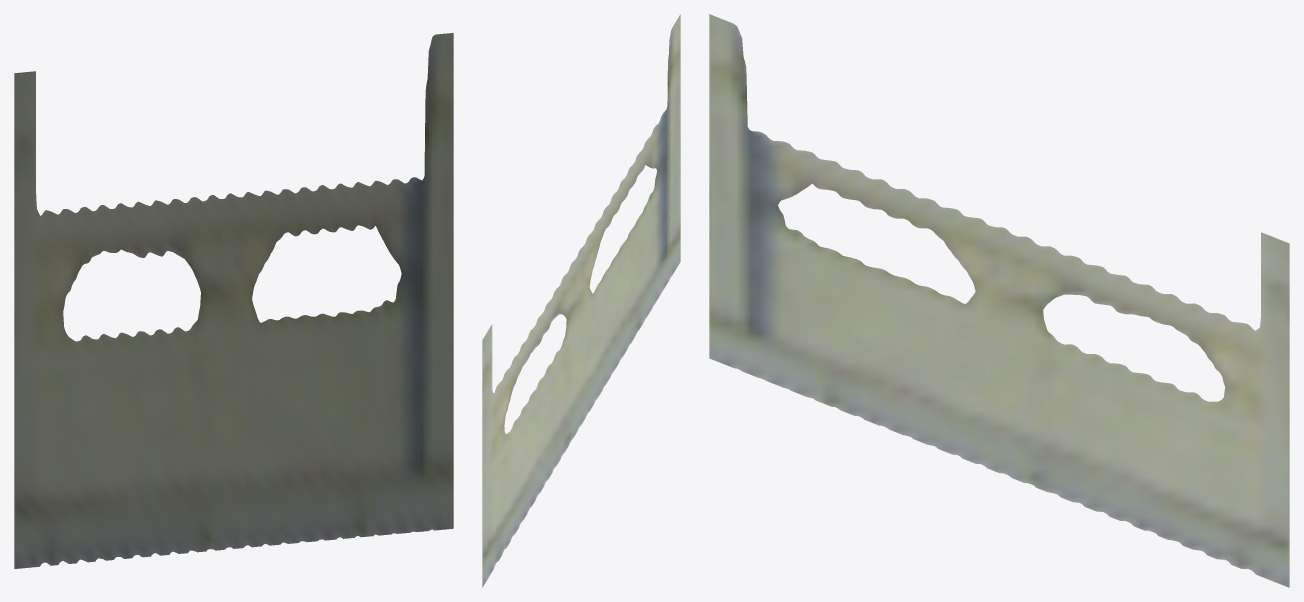
Rendered from 人民英雄纪念碑101.dae.
3 renders of one model, left to right at view 1: azimuth 30°, elevation 25°; view 2: azimuth 150°, elevation 25°; view 3: azimuth 270°, elevation 25°, orthographic. The views are drawn at different scales.
Visible parts, largest first — view 1: SketchUp; view 2: SketchUp; view 3: SketchUp.
Boxes of the visible parts, x1,y1,x2,y2 form: SketchUp: (14, 33, 453, 568); SketchUp: (482, 14, 680, 587); SketchUp: (709, 14, 1289, 587).
Size of the model in its own units: 2.5 by 84.18 by 93.02.
Materials: 1 (1 with a texture image).
